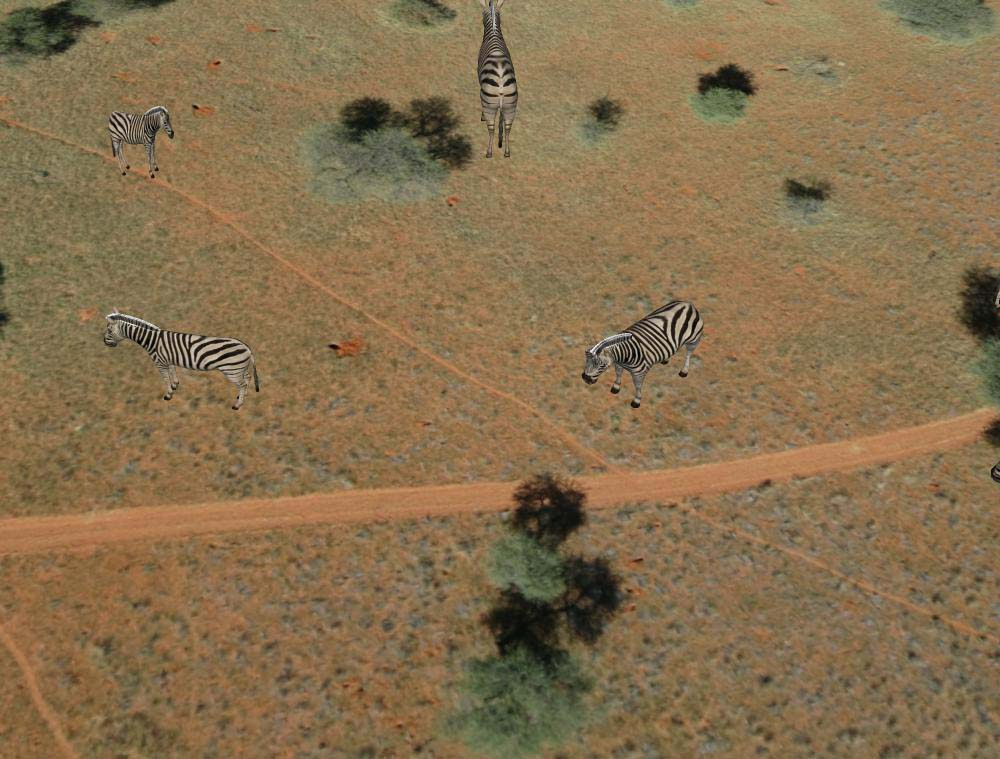zebra: (101, 294, 259, 416), (582, 285, 704, 412), (474, 4, 521, 159), (104, 99, 177, 177)
